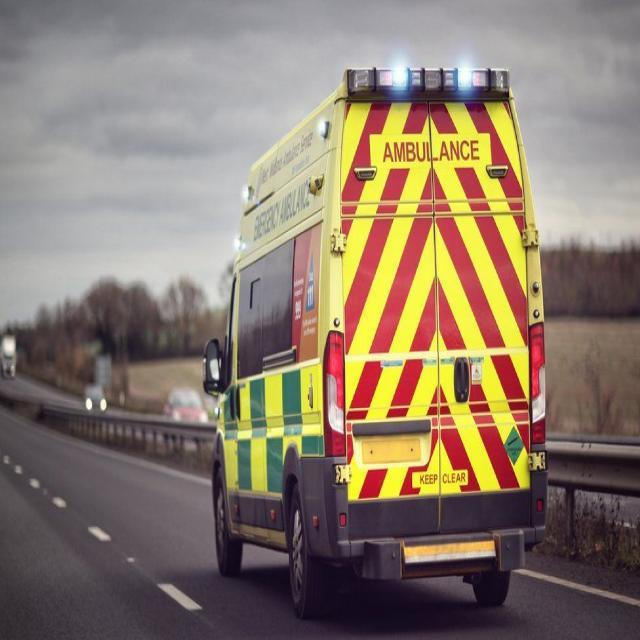emergency-vehicle: (198, 57, 596, 585)
